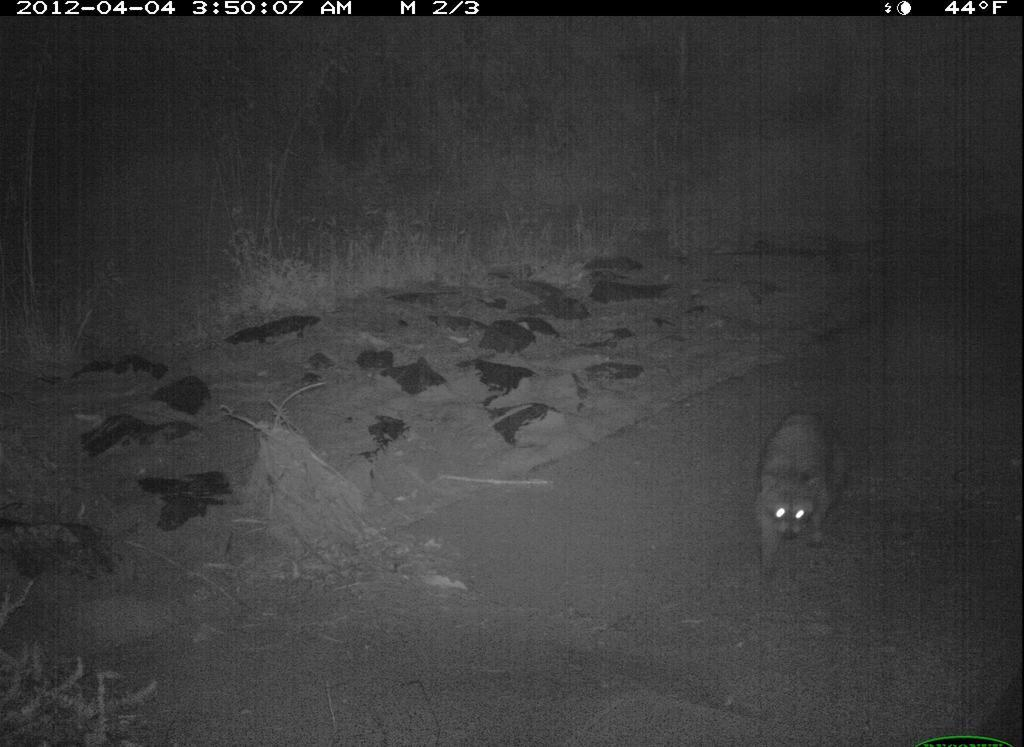raccoon: (745, 397, 849, 593)
